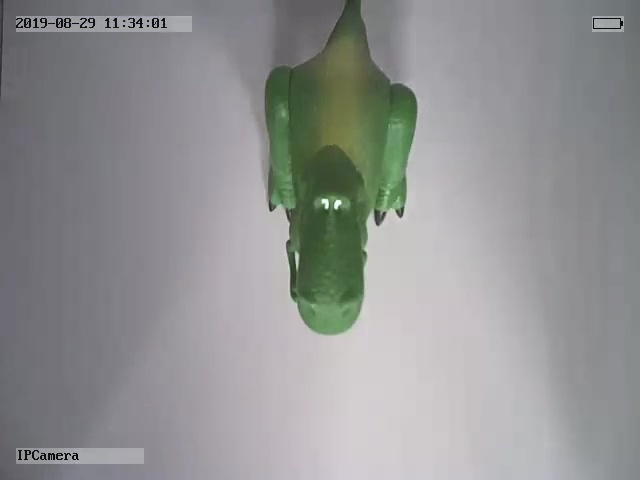rex: (259, 5, 421, 336)
